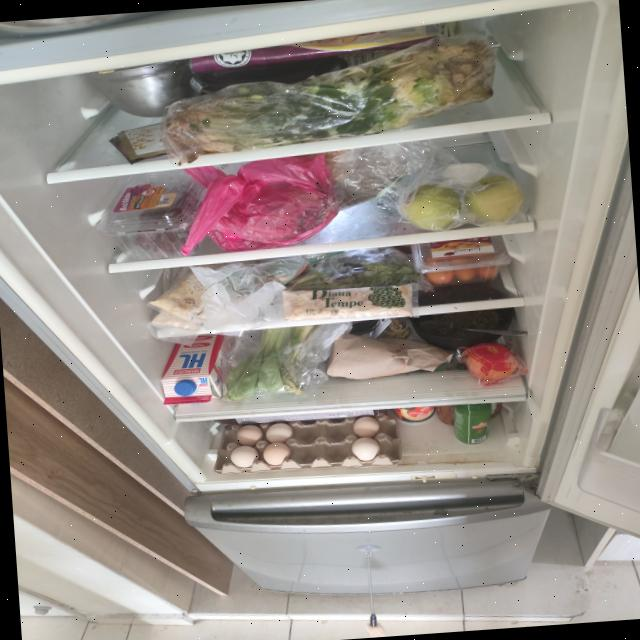apple: (462, 172, 524, 224), (403, 182, 463, 232)
egg: (210, 414, 402, 478)
leafy_greens: (159, 36, 500, 166), (286, 244, 424, 293)
orange: (466, 342, 518, 382)
pakchoy: (220, 324, 321, 402)
tempeh: (282, 280, 414, 324), (147, 268, 210, 334)
unknown_bag: (173, 153, 340, 256)
